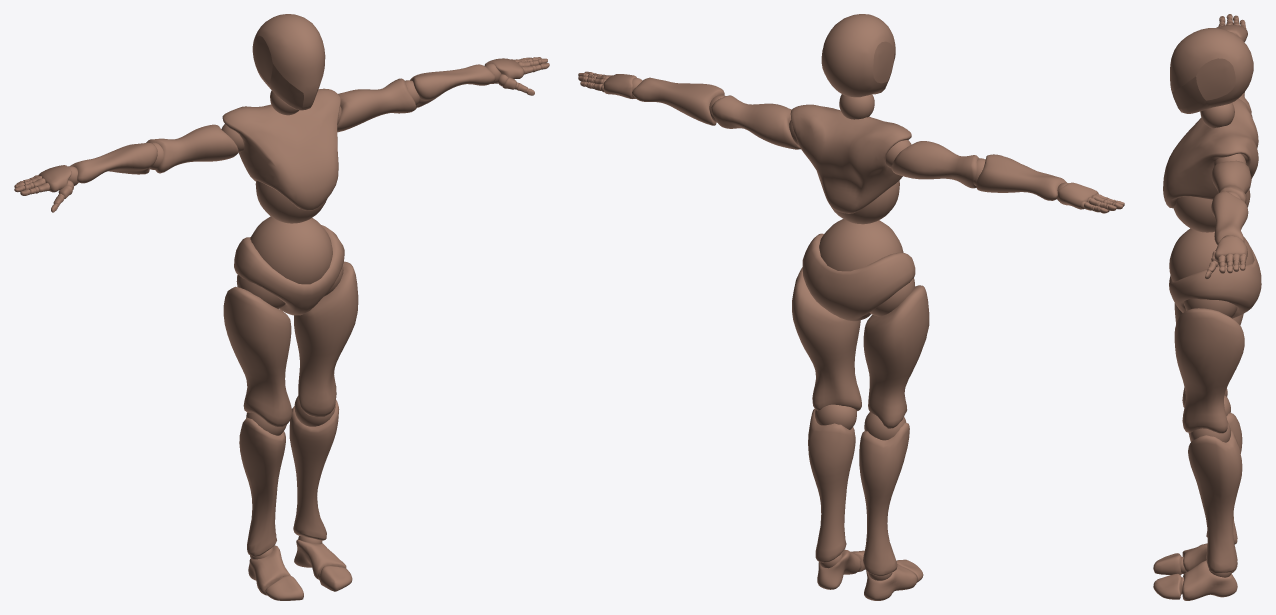
Rendered from dancer2.glb.
3 views of the same model, side by side, from view 1: azimuth 30°, elevation 25°; view 2: azimuth 150°, elevation 25°; view 3: azimuth 270°, elevation 25° (orthographic). The views are drawn at different scales.
Parts seen in each view (by area): view 1: Beta_Surface, Beta_Joints; view 2: Beta_Surface, Beta_Joints; view 3: Beta_Surface, Beta_Joints.
Boxes of the visible parts, bbox=[...] form: Beta_Surface: bbox=[14, 14, 549, 600]; Beta_Joints: bbox=[21, 57, 543, 579]; Beta_Surface: bbox=[578, 14, 1124, 600]; Beta_Joints: bbox=[584, 72, 1117, 580]; Beta_Surface: bbox=[1153, 14, 1261, 600]; Beta_Joints: bbox=[1169, 16, 1254, 594].
Bounding box in the file's own units: 1.81 × 1.81 × 0.3207.
